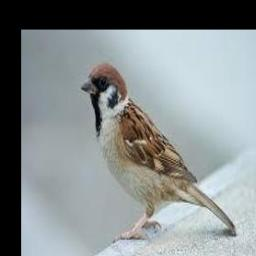Sparrow: (82, 61, 236, 240)
